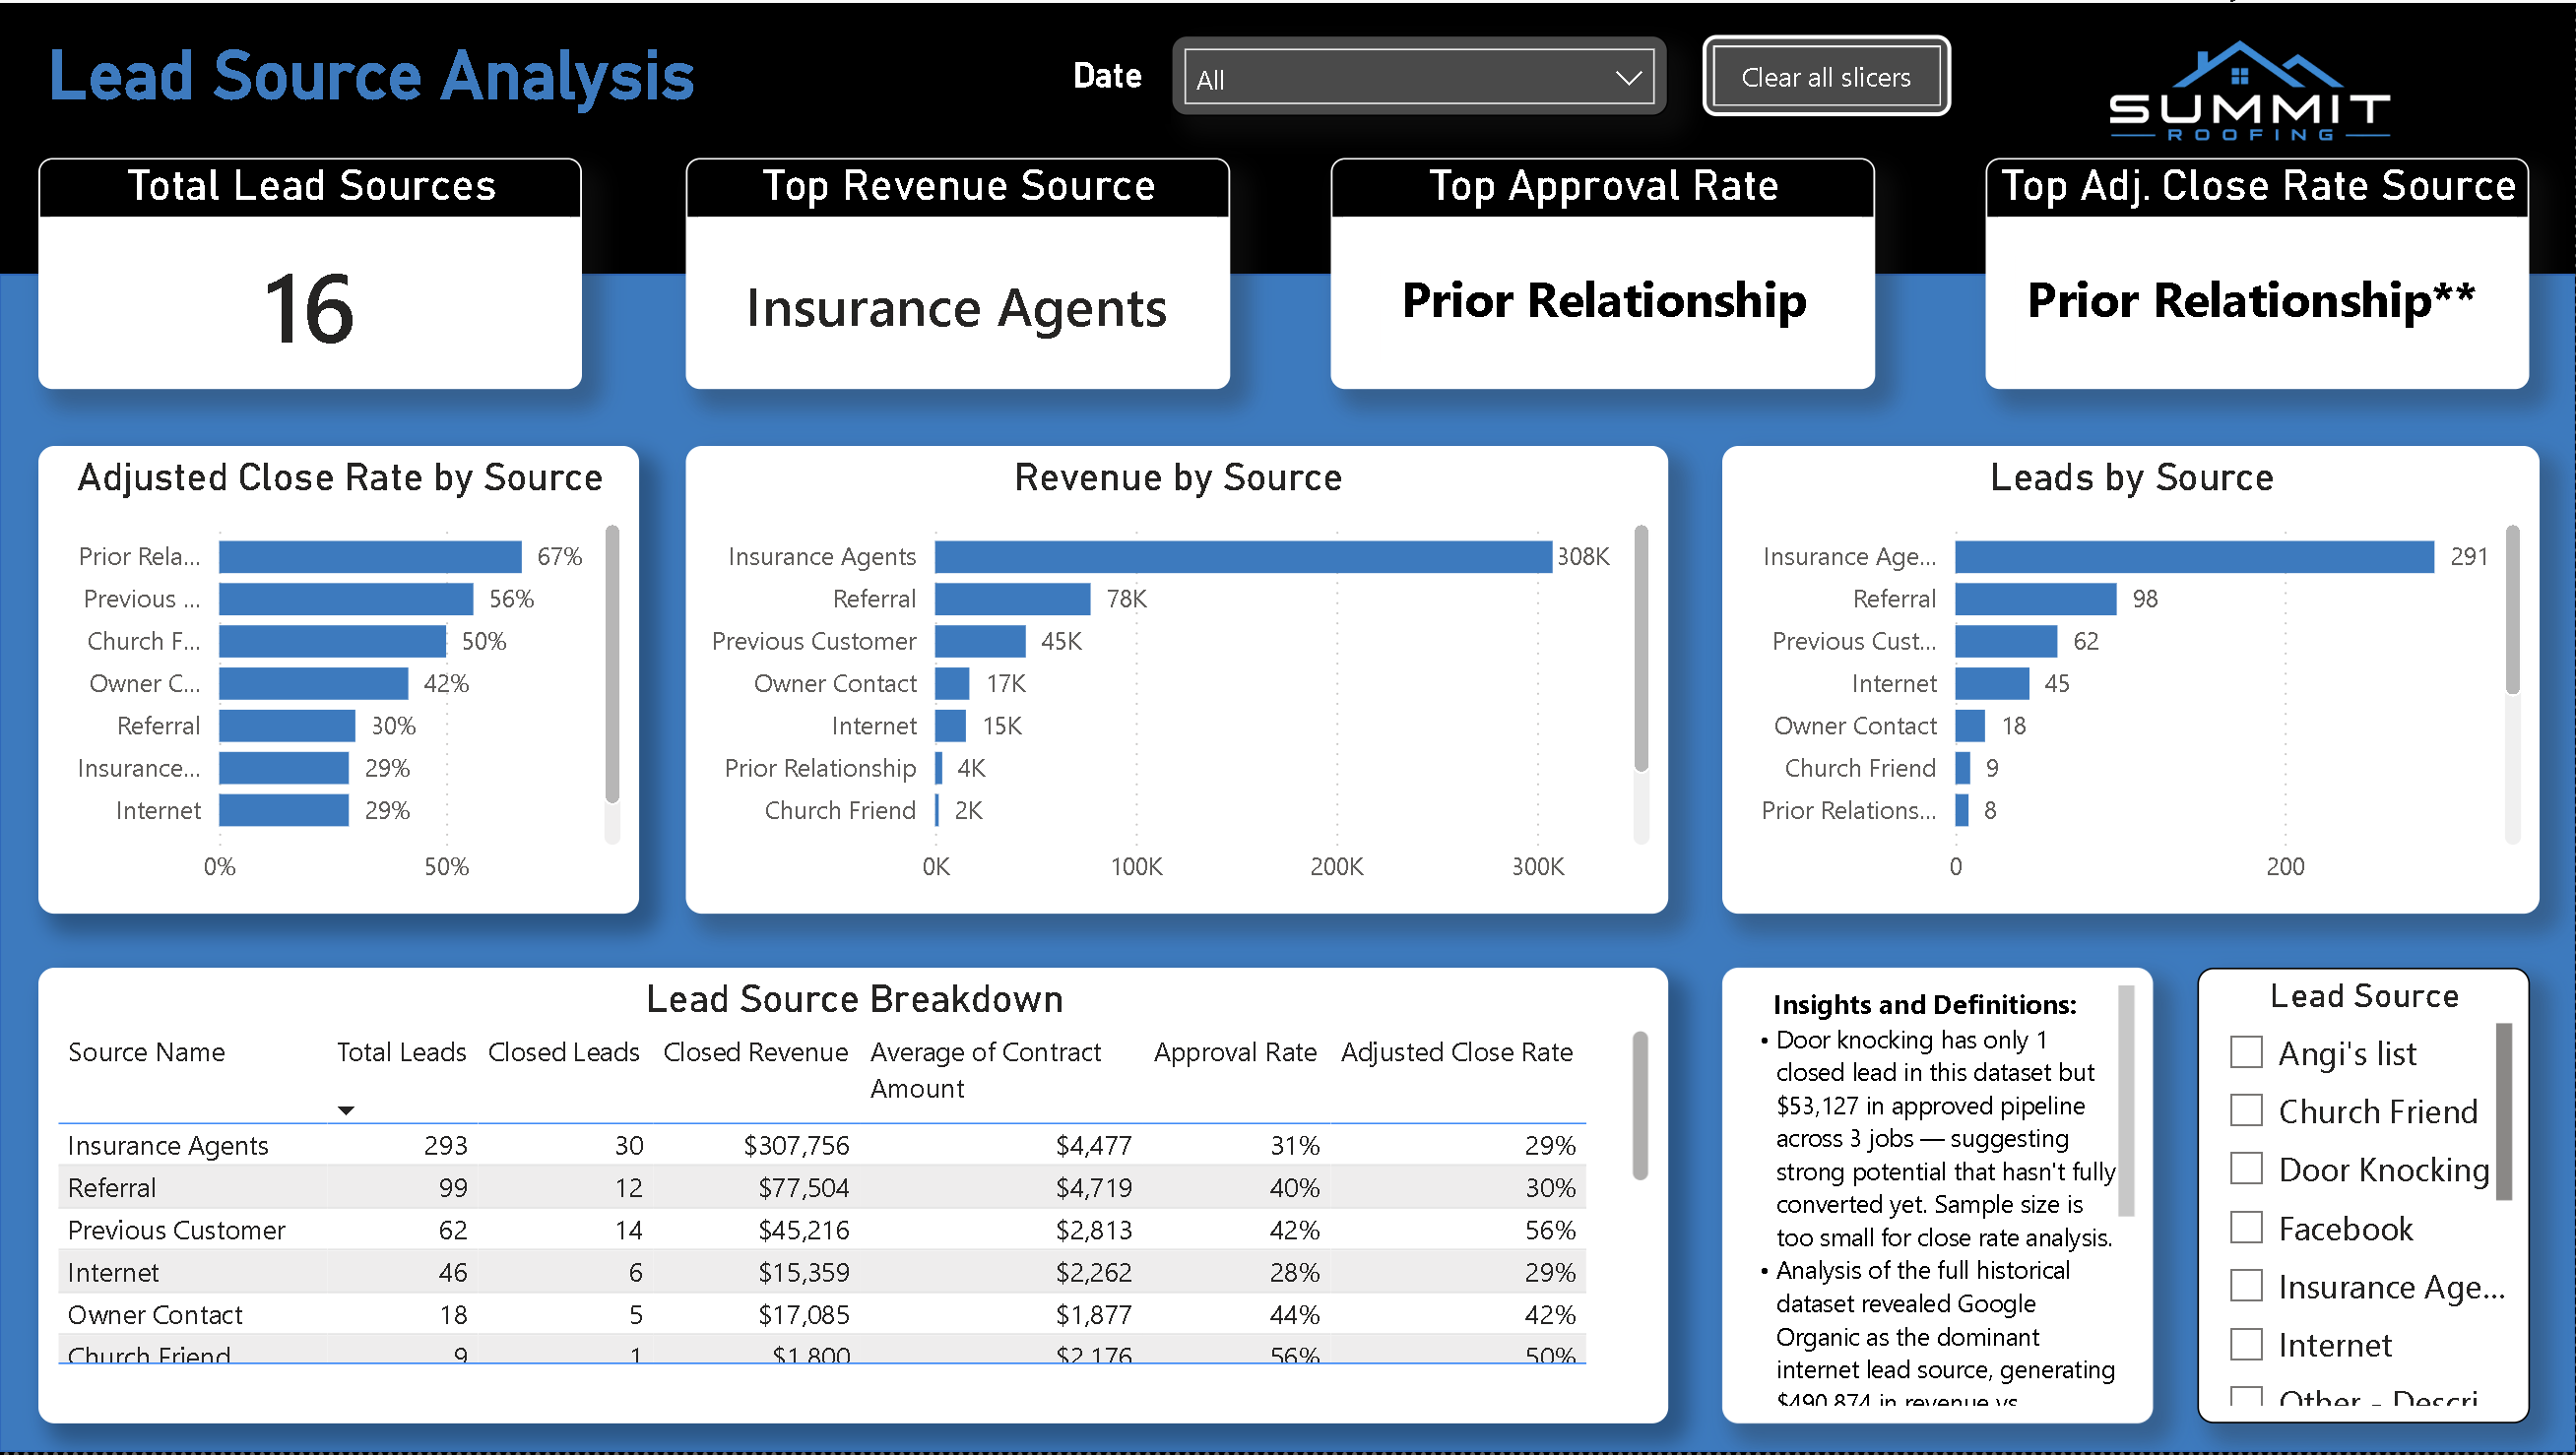

What the dashboard file says about the page in this screenshot:
{"tool":"powerbi","page":{"name":"Lead Source Analysis","canvas":[1280,720],"ordinal":2},"visuals":[{"type":"image","box":[978.3,11,280,66],"z":0},{"type":"shape","box":[0,134.5,1280.3,585.7],"z":1000},{"type":"cardVisual","title":"Top Approval Rate ","fields":{"Data":["leads.Approval Rate"]},"box":[661.6,77,270.2,114.9],"z":2000},{"type":"cardVisual","title":"Total Lead Sources","fields":{"Data":["sub_lead_sources.Total Lead Sources"]},"box":[19.6,77,270,114.9],"z":3000},{"type":"cardVisual","title":"Top Adj. Close Rate Source","fields":{"Data":["leads.Adjusted Close Rate"]},"box":[986.8,77,270,114.9],"z":4000},{"type":"clusteredBarChart","title":"Adjusted Close Rate by Source","fields":{"Category":["lead_sources.source_name"],"Y":["leads.Adjusted Close Rate"]},"box":[19.6,220.1,298.4,232.3],"z":5000},{"type":"cardVisual","title":"Top Revenue Source","fields":{"Data":["leads.Best Revenue Source"]},"box":[341.2,77,270.2,114.9],"z":6000},{"type":"textbox","box":[19.6,11,551.5,57.5],"z":7000},{"type":"slicer","title":"Lead Source","fields":{"Values":["lead_sources.source_name"]},"box":[1092,479.4,165.1,226.2],"z":8000},{"type":"slicer","title":"Month","fields":{"Values":["Dim_Date.Month Name","Dim_Date.Quarter","Dim_Date.Year","Dim_Date.Year-Month"]},"box":[582.1,15.9,247,40.4],"z":9000},{"type":"textbox","box":[519.7,20.8,62.4,39.1],"z":10000},{"type":"textbox","box":[856,479.4,214,226.2],"z":11000},{"type":"barChart","title":"Revenue by Source","fields":{"Category":["lead_sources.source_name"],"Y":["leads.Closed Revenue"]},"box":[341.2,220.1,487.9,232.3],"z":12000},{"type":"actionButton","box":[846.2,15.9,123.5,40.4],"z":13000},{"type":"textbox","box":[686,124.7,222.6,53.8],"z":14000},{"type":"textbox","box":[1001.5,124.7,234.8,63.6],"z":15000},{"type":"barChart","title":"Leads by Source","fields":{"Category":["lead_sources.source_name"],"Y":["leads.Total Leads"]},"box":[856,220.1,406,232.3],"z":16000},{"type":"tableEx","title":"Lead Source Breakdown","fields":{"Values":["lead_sources.source_name","leads.Total Leads","leads.Closed Leads","leads.Closed Revenue","Avg(payments.contract_amount)","leads.Approval Rate","leads.Adjusted Close Rate"]},"box":[19.6,479.4,809.5,226.2],"z":17000}]}

Visuals, with their boxes in screenshot pixels (x1, y1, x2, y2), scaled from the page's 1280x720 canvas onto the 2576x1455 screenshot:
image: 1968:23:2533:156
shape: 0:272:2575:1454
"Top Approval Rate " cardVisual: 1331:156:1875:388
"Total Lead Sources" cardVisual: 39:156:583:388
"Top Adj. Close Rate Source" cardVisual: 1986:156:2530:388
"Adjusted Close Rate by Source" clusteredBarChart: 39:445:640:915
"Top Revenue Source" cardVisual: 686:156:1231:388
textbox: 39:23:1149:139
"Lead Source" slicer: 2198:969:2530:1425
"Month" slicer: 1172:32:1668:114
textbox: 1046:42:1172:121
textbox: 1722:969:2154:1425
"Revenue by Source" barChart: 686:445:1668:915
actionButton: 1703:32:1952:114
textbox: 1381:252:1829:360
textbox: 2016:252:2488:381
"Leads by Source" barChart: 1722:445:2540:915
"Lead Source Breakdown" tableEx: 39:969:1668:1425
